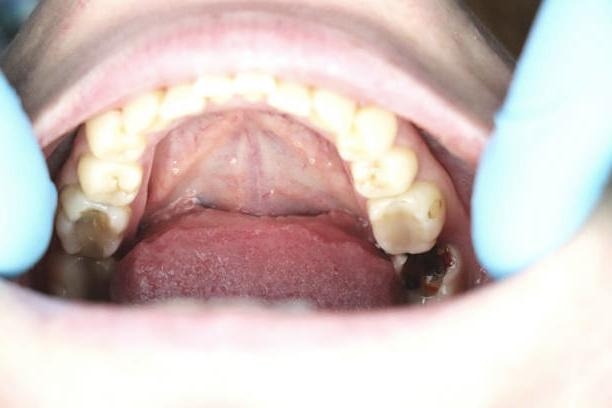Caries: (389, 250, 465, 314)
